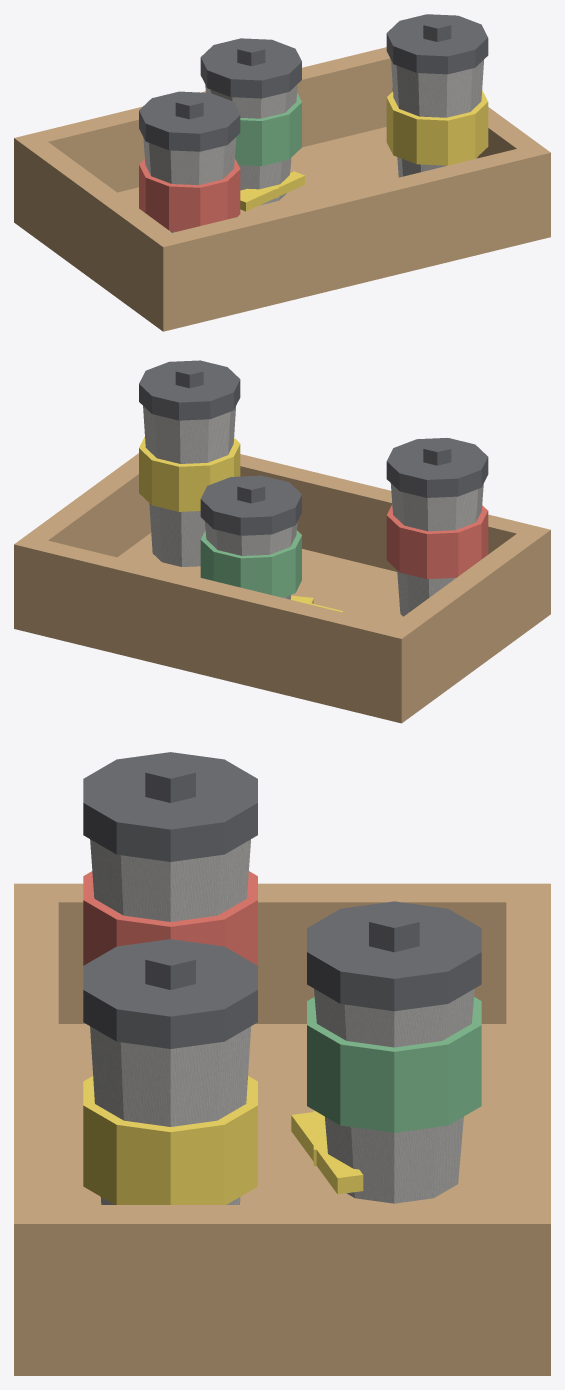
The picture shows the model from 3 angles, top to bottom: view 1: azimuth 30°, elevation 25°; view 2: azimuth 150°, elevation 25°; view 3: azimuth 270°, elevation 25°; orthographic projection. The views are drawn at different scales.
Visible parts, largest first — view 1: coffee-cup-set-timber, coffee-cup-set-charcoal, coffee-cup-set-concrete, coffee-cup-set-canary, coffee-cup-set-scarlet, coffee-cup-set-leaf; view 2: coffee-cup-set-timber, coffee-cup-set-charcoal, coffee-cup-set-concrete, coffee-cup-set-scarlet, coffee-cup-set-canary, coffee-cup-set-leaf; view 3: coffee-cup-set-timber, coffee-cup-set-charcoal, coffee-cup-set-concrete, coffee-cup-set-canary, coffee-cup-set-leaf, coffee-cup-set-scarlet.
Boxes of the visible parts, x1,y1,x2,y2 form: coffee-cup-set-timber: [14, 47, 550, 331]; coffee-cup-set-charcoal: [139, 14, 488, 151]; coffee-cup-set-concrete: [143, 60, 483, 232]; coffee-cup-set-canary: [240, 90, 488, 211]; coffee-cup-set-scarlet: [139, 159, 240, 231]; coffee-cup-set-leaf: [235, 93, 301, 166]; coffee-cup-set-timber: [14, 453, 550, 723]; coffee-cup-set-charcoal: [139, 360, 488, 535]; coffee-cup-set-concrete: [143, 406, 483, 616]; coffee-cup-set-scarlet: [386, 504, 488, 578]; coffee-cup-set-canary: [139, 436, 343, 612]; coffee-cup-set-leaf: [200, 530, 301, 597]; coffee-cup-set-timber: [14, 883, 550, 1375]; coffee-cup-set-charcoal: [83, 752, 481, 1048]; coffee-cup-set-concrete: [90, 839, 474, 1204]; coffee-cup-set-canary: [83, 1076, 363, 1204]; coffee-cup-set-leaf: [307, 997, 481, 1132]; coffee-cup-set-scarlet: [83, 871, 257, 965].
Size of the model in its own units: 0.36 by 0.178 by 0.24.
6 materials, 1 textured.
